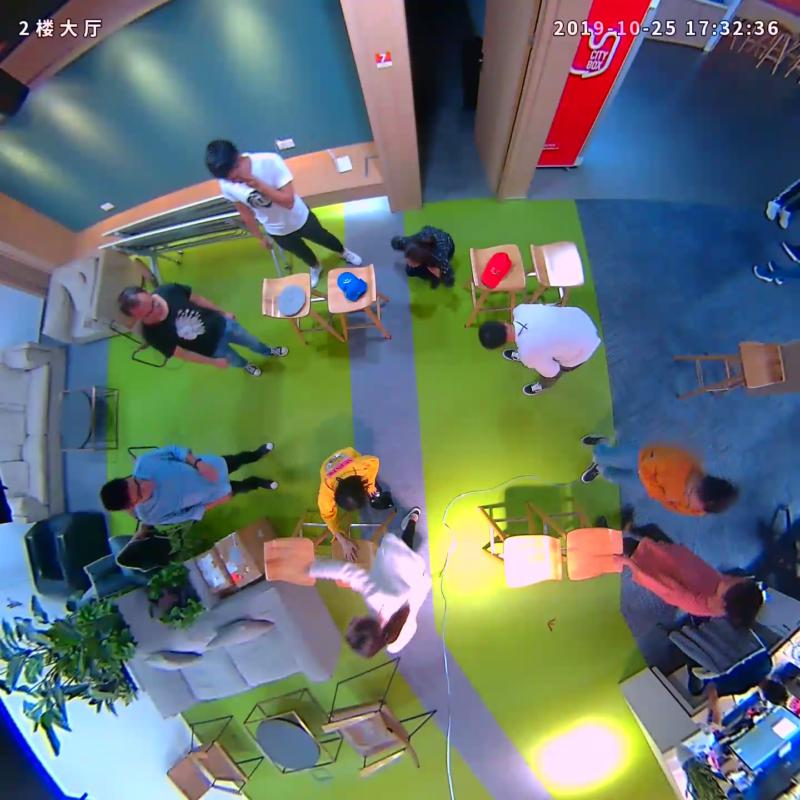head: (708, 573, 765, 635), (339, 610, 394, 664), (687, 471, 746, 520), (91, 475, 160, 515), (201, 135, 256, 184), (115, 283, 171, 325), (472, 312, 517, 353), (395, 233, 442, 272), (328, 473, 371, 514)
